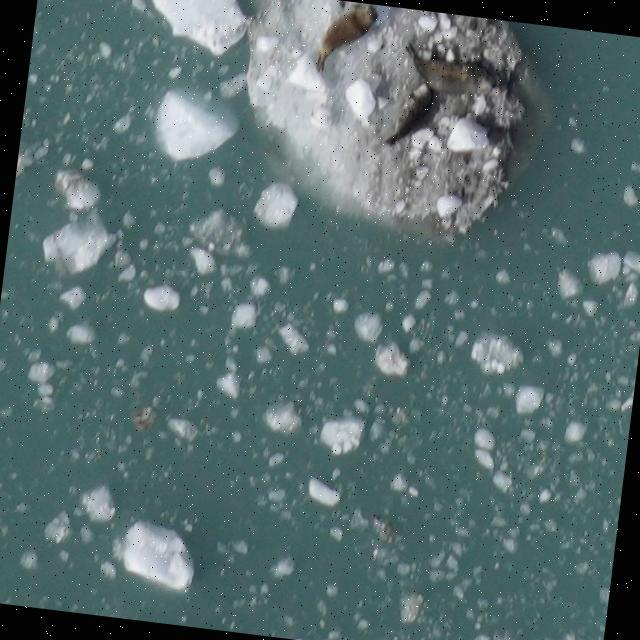seal: (397, 38, 504, 103), (311, 0, 381, 82), (384, 74, 442, 155)
